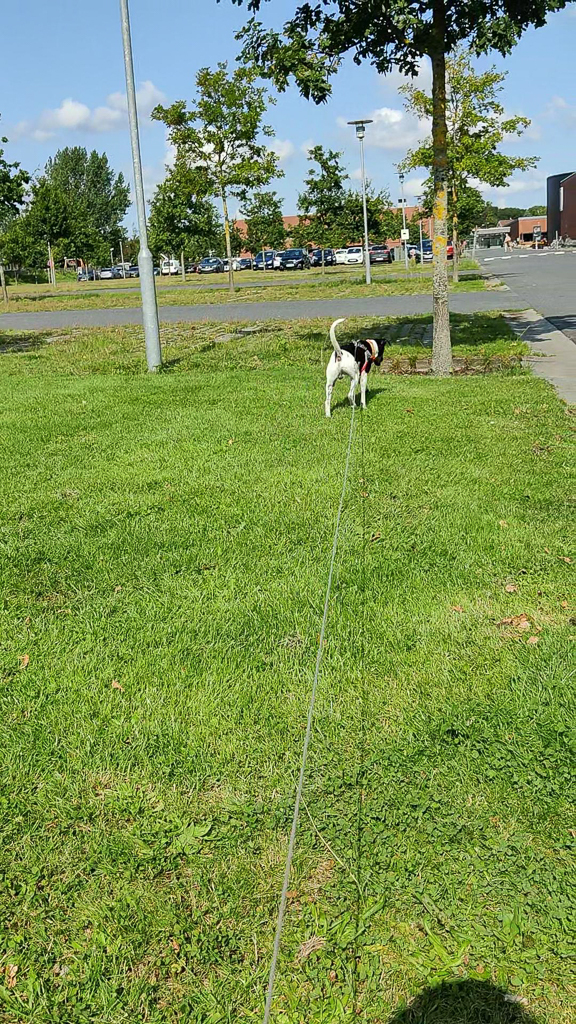Dog: (315, 312, 394, 419)
